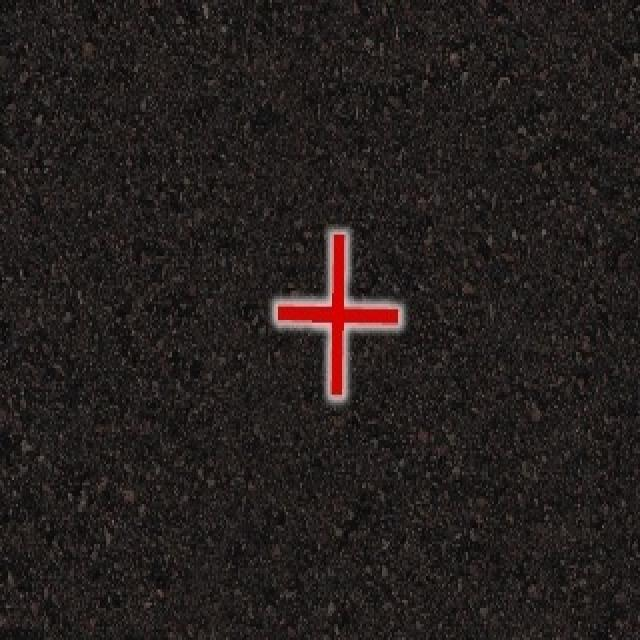x_marker: (275, 233, 399, 396)
